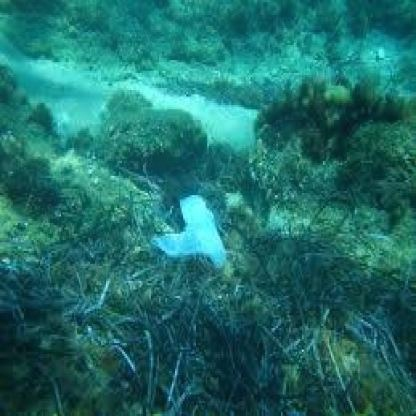pbag: (146, 186, 230, 272)
